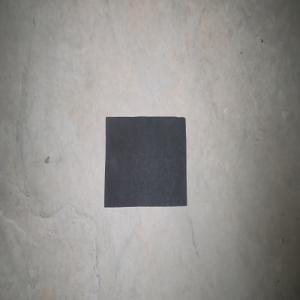PaintChip: (104, 116, 187, 208)
